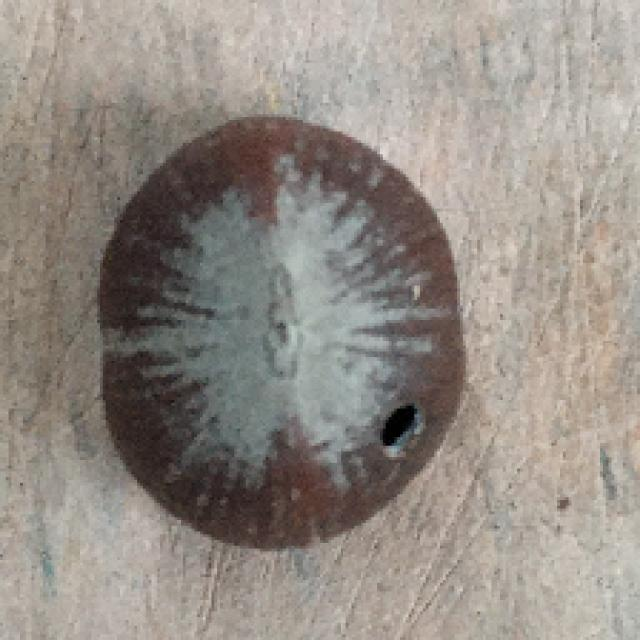damagedHazelnut: (94, 112, 471, 553)
